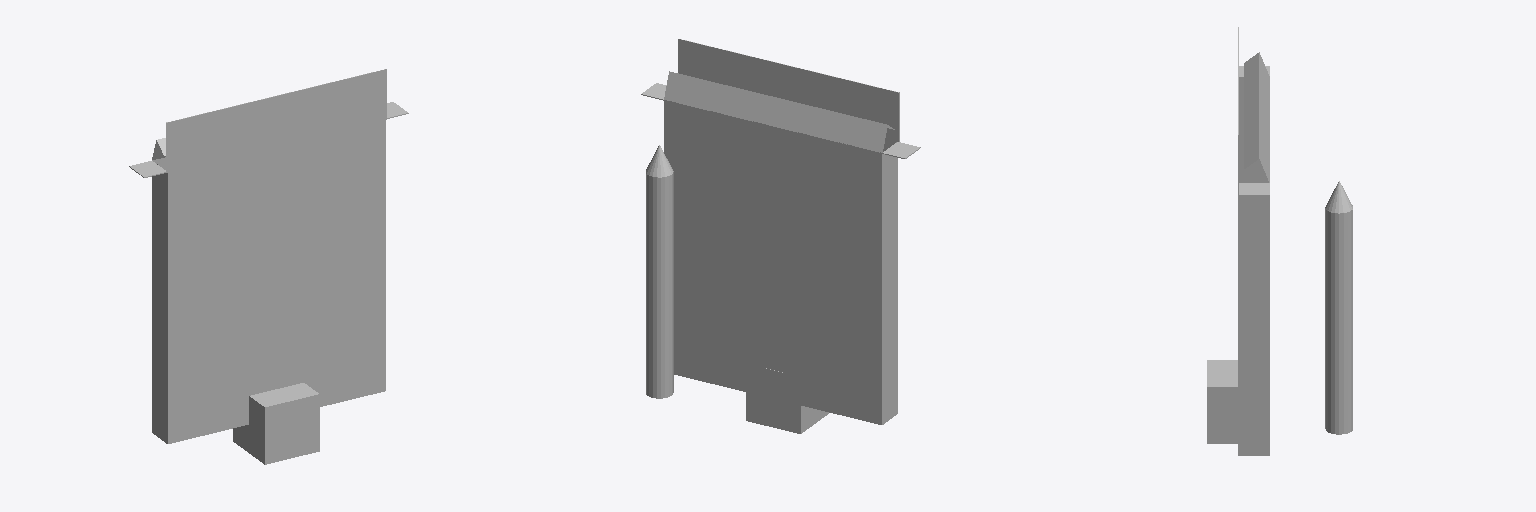
The model's file is texturized.obj.
3 views of the same model, side by side, from view 1: azimuth 30°, elevation 25°; view 2: azimuth 150°, elevation 25°; view 3: azimuth 270°, elevation 25° (orthographic).
Visible parts, largest first — view 1: group2, Cube; view 2: group2, pCylinder1, Cube; view 3: group2, pCylinder1, Cube.
Part boxes in pixels (left/top/right/bottom): group2: left=129, top=69, right=408, bottom=443; Cube: left=233, top=383, right=319, bottom=464; group2: left=641, top=39, right=920, bottom=424; pCylinder1: left=646, top=145, right=673, bottom=398; Cube: left=746, top=364, right=828, bottom=433; group2: left=1238, top=27, right=1269, bottom=455; pCylinder1: left=1325, top=181, right=1352, bottom=434; Cube: left=1207, top=360, right=1237, bottom=443.
Bounding box in the file's own units: 9.64 × 12.22 × 4.64.